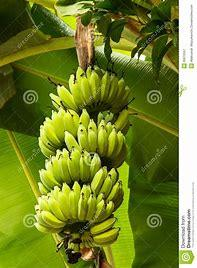banana: (32, 66, 140, 258), (28, 175, 129, 250), (30, 61, 137, 116), (25, 108, 137, 159), (34, 140, 130, 198)
